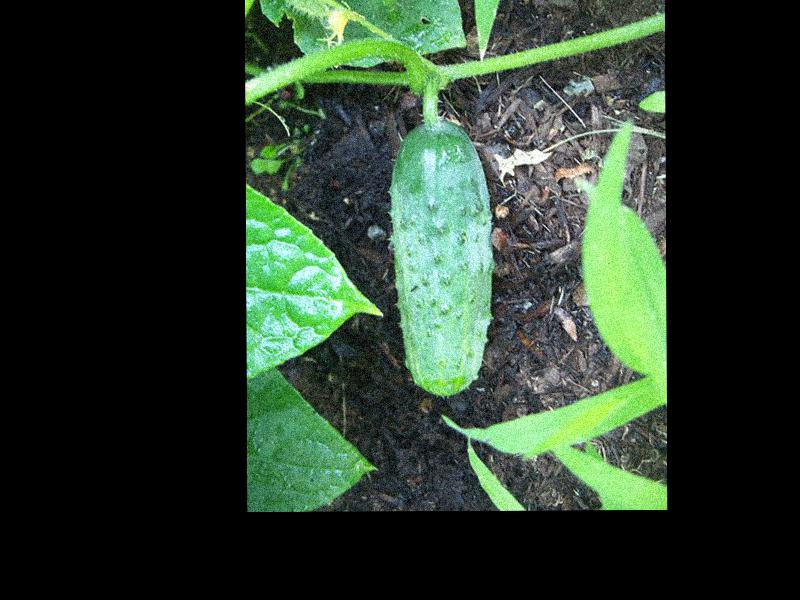Cucumber: (390, 120, 494, 399)
